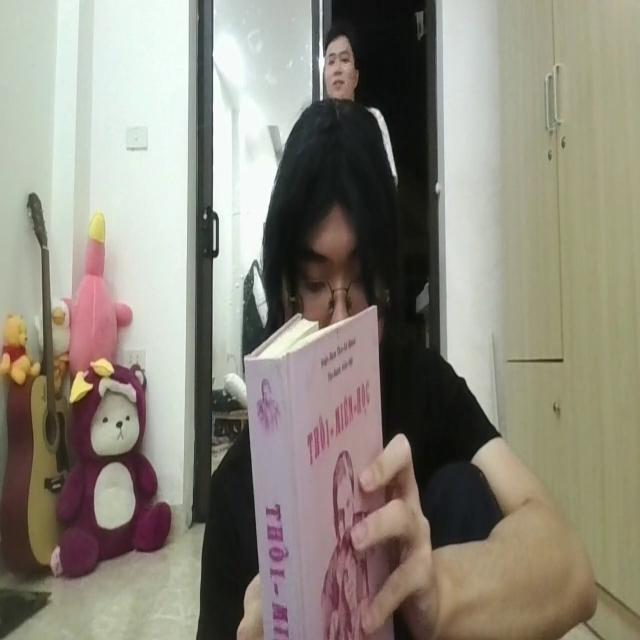book: (245, 303, 392, 640)
extra_person: (326, 33, 356, 105)
student: (230, 93, 598, 640)
